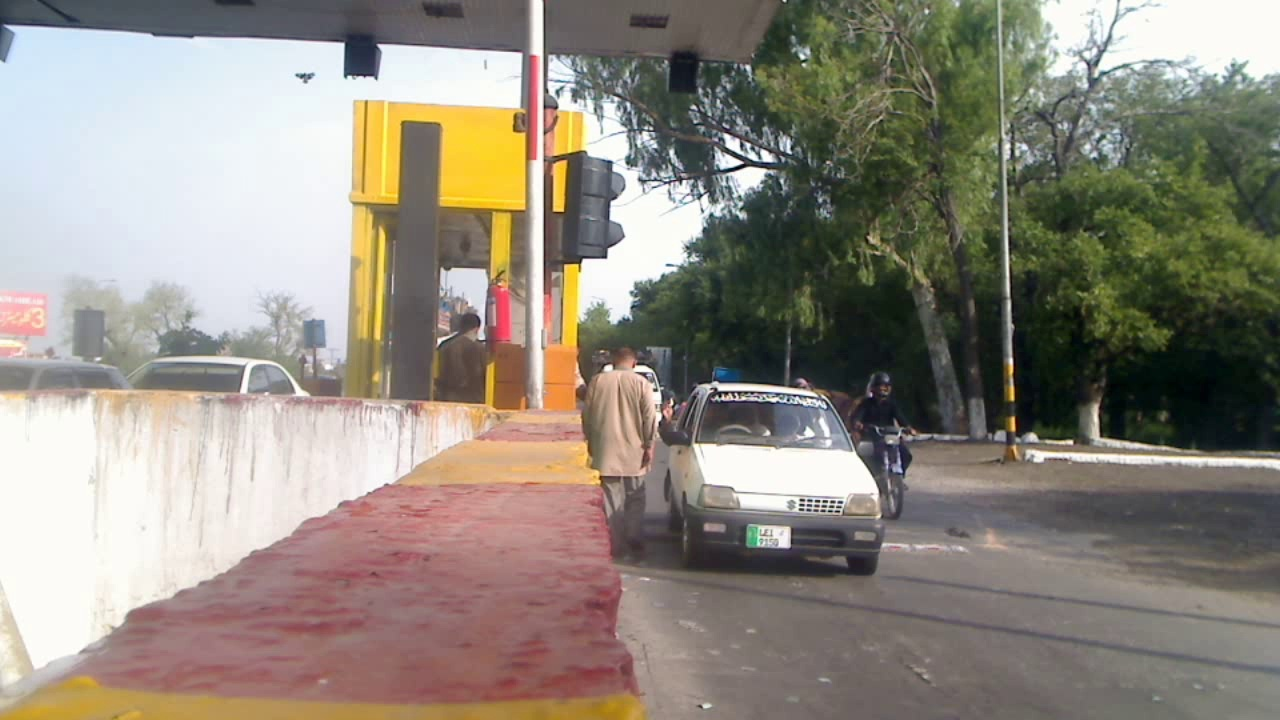Number Plate (Car): (748, 524, 789, 545)
